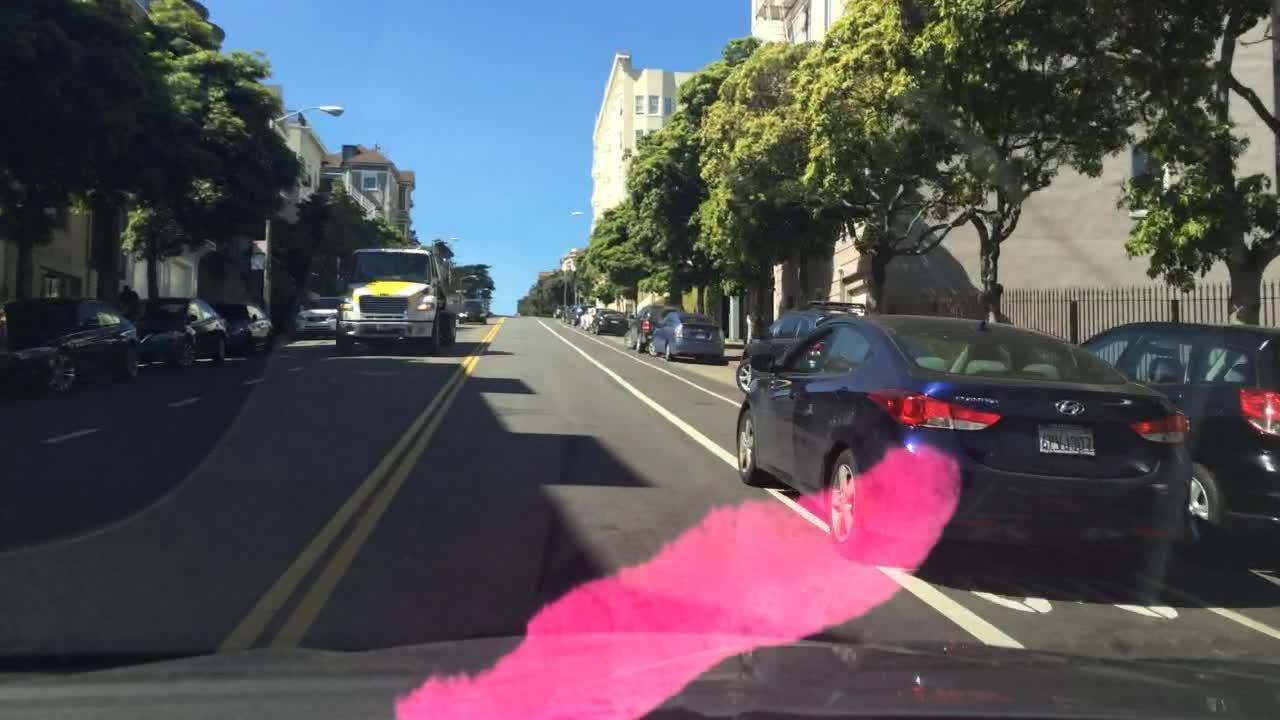Hyundai: (1055, 399, 1085, 417)
